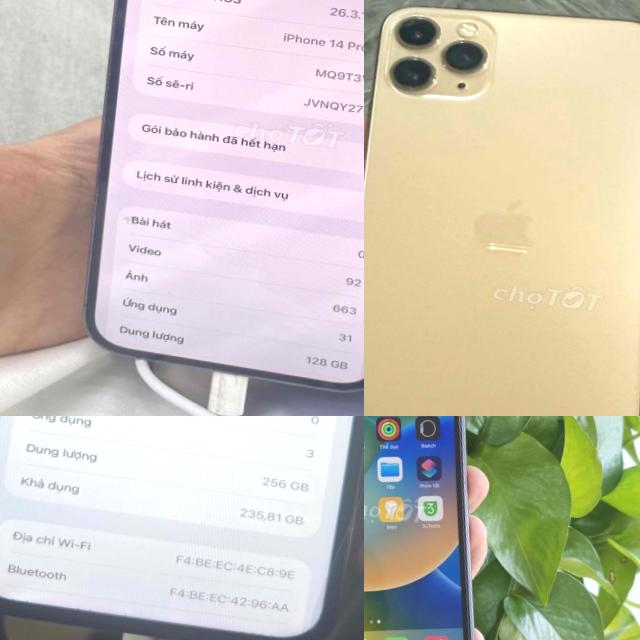gen_11: (364, 0, 640, 416)
gen_12_13: (0, 416, 364, 640)
gen_14: (61, 0, 364, 412)
gen_7_8: (364, 416, 526, 640)
